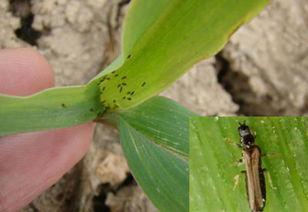tiny_pests: (219, 114, 290, 212)
